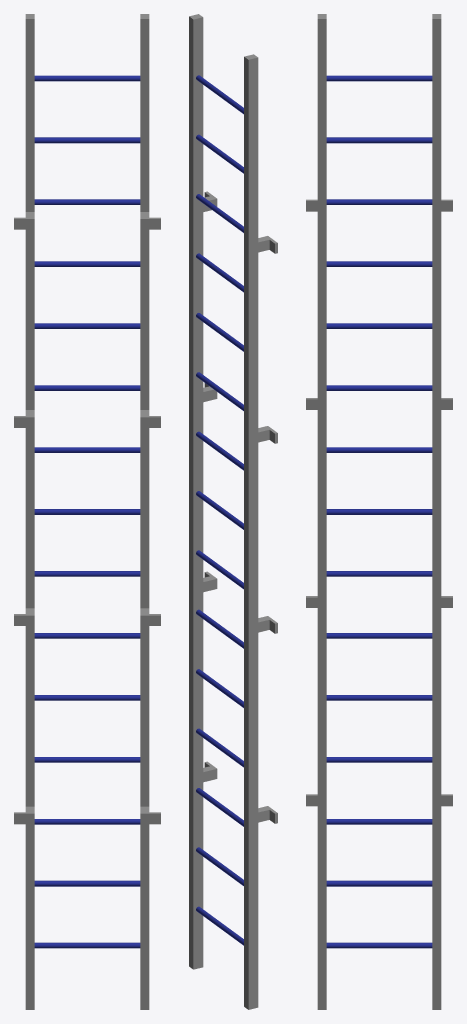
Rendered from Ladder1.FBX.
The picture shows the model from 3 angles, left to right: view 1: azimuth 90°, elevation 25°; view 2: azimuth 210°, elevation 25°; view 3: azimuth 270°, elevation 25°; orthographic projection. The views are drawn at different scales.
Visible parts, largest first — view 1: Ladder1; view 2: Ladder1; view 3: Ladder1.
Boxes of the visible parts, x1,y1,x2,y2 form: Ladder1: (14,14,160,1009); Ladder1: (189,14,277,1009); Ladder1: (306,14,452,1009).
Size of the model in its own units: 12.52 by 476 by 64.
